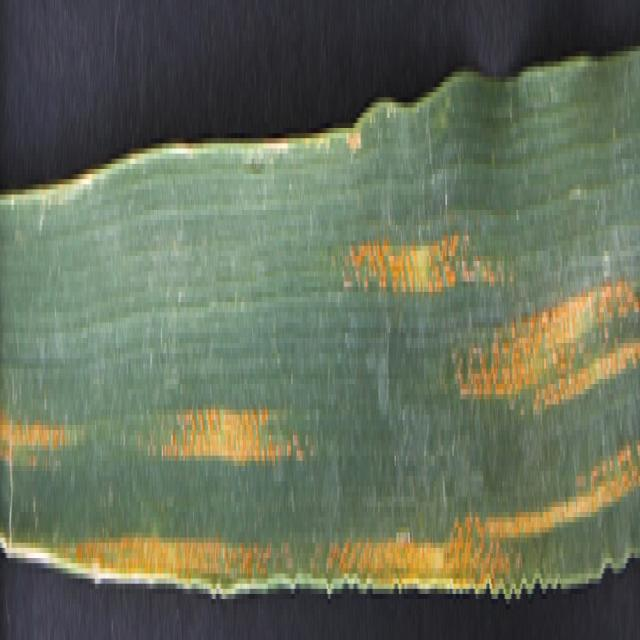leaf rust: (2, 241, 640, 578)
